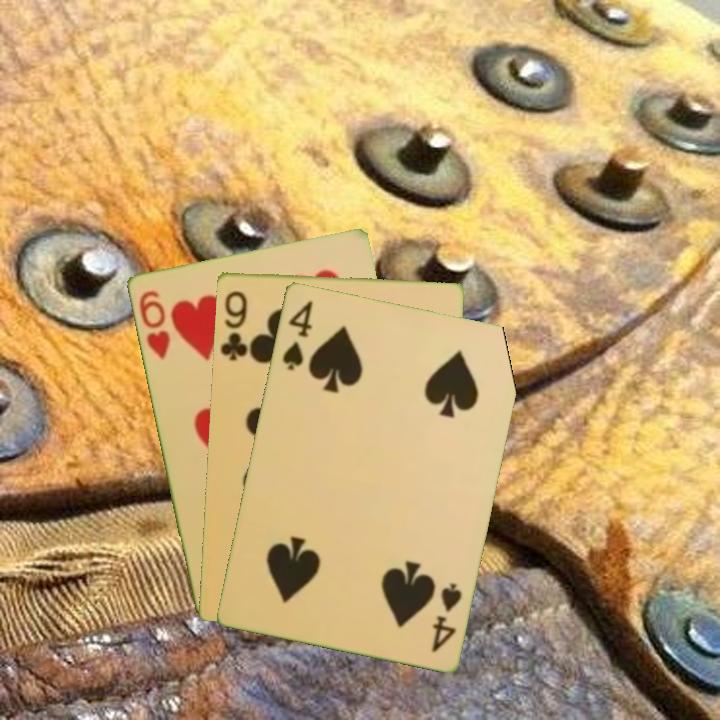4s: (427, 578, 465, 654), (278, 296, 315, 373)
6h: (135, 286, 173, 362)
9c: (216, 287, 250, 363)
